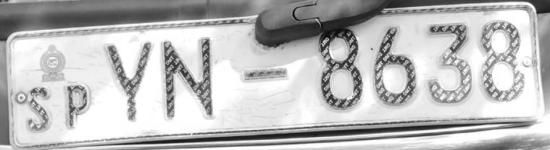-: (238, 64, 292, 89)
3: (424, 17, 476, 111)
6: (368, 21, 419, 112)
8: (310, 21, 366, 116), (476, 15, 527, 108)
N: (160, 33, 223, 128)
P: (61, 81, 94, 133)
S: (24, 84, 56, 135)
Y: (103, 37, 155, 125)
